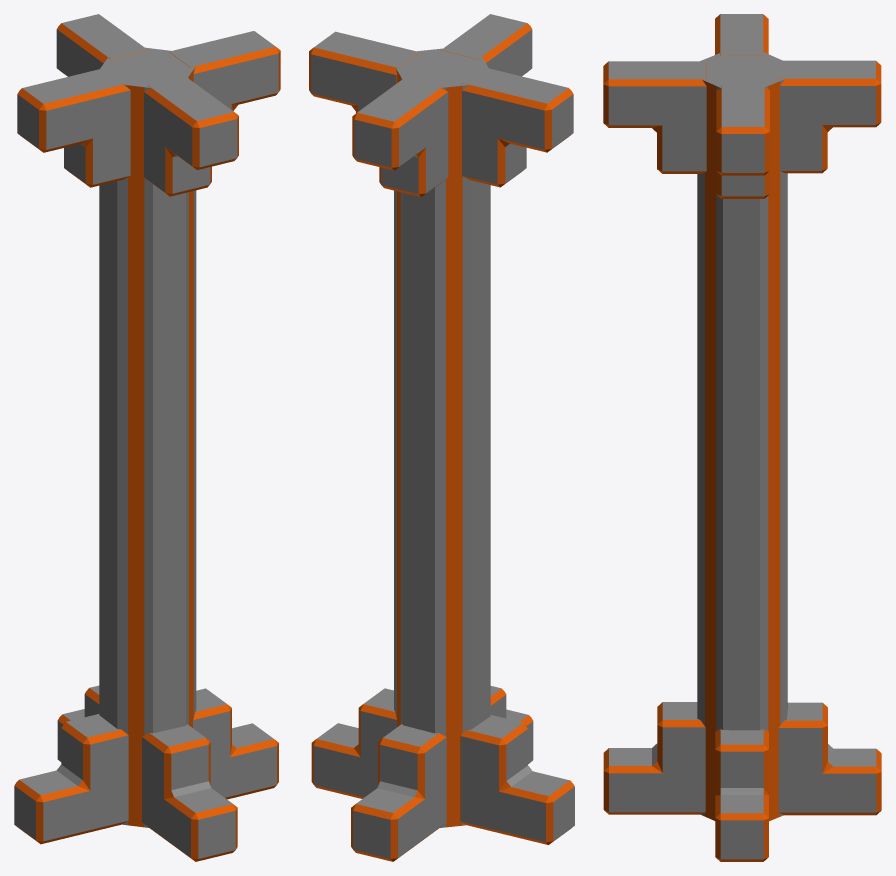
Rendered from pillar.fbx.
3 renders of one model, left to right at view 1: azimuth 30°, elevation 25°; view 2: azimuth 150°, elevation 25°; view 3: azimuth 270°, elevation 25°, orthographic.
Parts seen in each view (by area): view 1: Cube.005; view 2: Cube.005; view 3: Cube.005.
Part boxes in pixels (x1,y1,x2,y2): Cube.005: [14, 14, 280, 861]; Cube.005: [309, 14, 574, 861]; Cube.005: [603, 14, 881, 861].
Bounding box in the file's own units: 423 × 1226 × 420.
